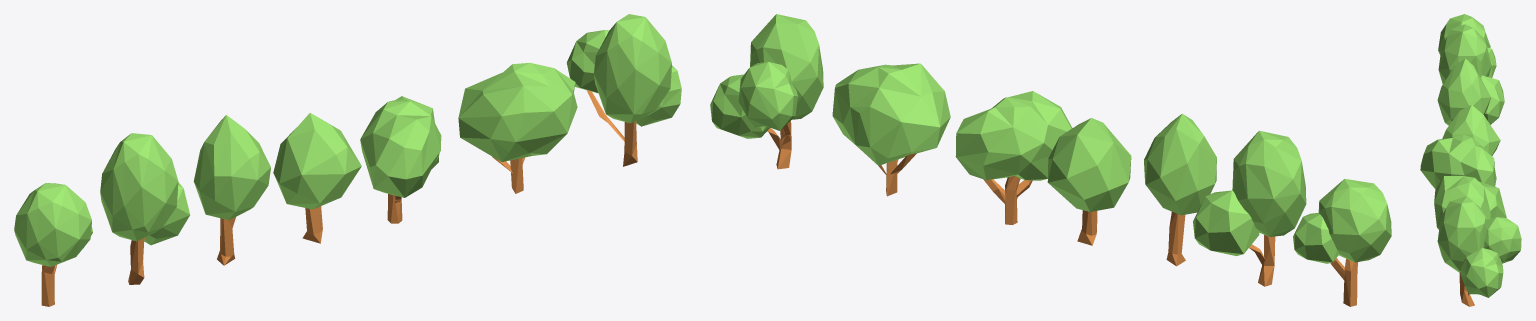
Rendered from Trees.fbx.
3 views of the same model, side by side, from view 1: azimuth 30°, elevation 25°; view 2: azimuth 150°, elevation 25°; view 3: azimuth 270°, elevation 25° (orthographic). The views are drawn at different scales.
Visible parts, largest first — view 1: Icosphere.014, Icosphere.016, Icosphere.018, Cylinder.021, Icosphere.017, Icosphere.022, Icosphere.020; view 2: Icosphere.014, Icosphere.018, Icosphere.016, Cylinder.021, Icosphere.020, Icosphere.017, Icosphere.022; view 3: Icosphere.014, Cylinder.021, Icosphere.018, Icosphere.022, Icosphere.016, Icosphere.017, Icosphere.020.
Part boxes in pixels (x1,y1,x2,y2): Icosphere.014: [566, 14, 681, 166]; Icosphere.016: [458, 62, 577, 193]; Icosphere.018: [100, 133, 190, 284]; Cylinder.021: [360, 96, 441, 223]; Icosphere.017: [273, 113, 361, 243]; Icosphere.022: [193, 115, 270, 265]; Icosphere.020: [14, 183, 92, 306]; Icosphere.014: [710, 14, 823, 169]; Icosphere.018: [1193, 130, 1306, 286]; Icosphere.016: [832, 63, 950, 196]; Cylinder.021: [955, 91, 1072, 224]; Icosphere.020: [1293, 179, 1391, 306]; Icosphere.017: [1047, 118, 1131, 245]; Icosphere.022: [1144, 113, 1216, 266]; Icosphere.014: [1437, 196, 1521, 306]; Cylinder.021: [1420, 134, 1496, 188]; Icosphere.018: [1438, 24, 1504, 124]; Icosphere.022: [1437, 58, 1490, 125]; Icosphere.016: [1434, 176, 1506, 229]; Icosphere.017: [1442, 105, 1500, 155]; Icosphere.020: [1438, 14, 1496, 77].
Size of the model in its own units: 2396 by 13103 by 2798.
